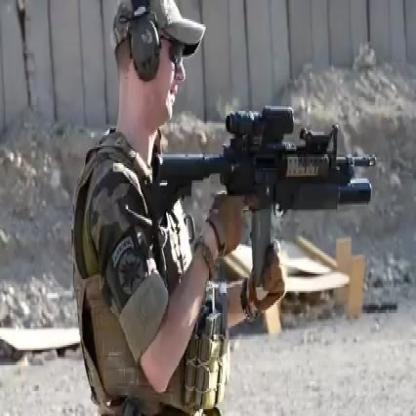Gun: (148, 97, 376, 290)
